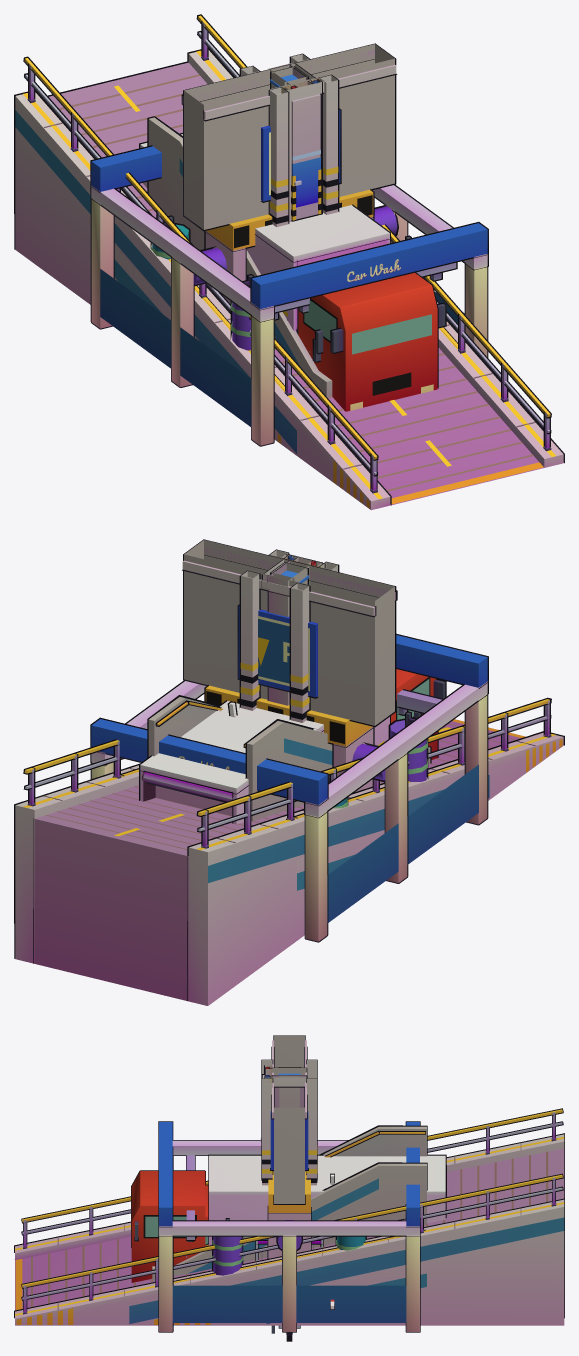
The model's file is fps-kit-parking.glb.
The picture shows the model from 3 angles, top to bottom: view 1: azimuth 30°, elevation 25°; view 2: azimuth 150°, elevation 25°; view 3: azimuth 270°, elevation 25°; orthographic projection. The views are drawn at different scales.
Parts seen in each view (by area): view 1: KIT_PARKING_Ramp, KIT_PARKING_Landmark_CarWash, KIT_PARKING_GateFrame, KIT_PARKING_DeliveryTruck, KIT_PARKING_Stair, KIT_PARKING_Up_B1_Pier, KIT_PARKING_Corner_NE, KIT_PARKING_Corner_NW, KIT_PARKING_RampHalf, KIT_PARKING_GateSide; view 2: KIT_PARKING_Ramp, KIT_PARKING_Landmark_CarWash, KIT_PARKING_GateFrame, KIT_PARKING_DeliveryTruck, KIT_PARKING_Stair, KIT_PARKING_Corner_SW, KIT_PARKING_Corner_SE, KIT_PARKING_TrailWall, KIT_PARKING_RampHalf; view 3: KIT_PARKING_Ramp, KIT_PARKING_Landmark_CarWash, KIT_PARKING_DeliveryTruck, KIT_PARKING_Stair, KIT_PARKING_GateFrame, KIT_PARKING_RampHalf, KIT_PARKING_Corner_SW, KIT_PARKING_Corner_NW, KIT_PARKING_TrailWall, KIT_PARKING_Col_Full_0.
Part boxes in pixels (box(x1,y1,x2,y2)): KIT_PARKING_Ramp: box(14, 14, 564, 510); KIT_PARKING_Landmark_CarWash: box(90, 145, 488, 446); KIT_PARKING_GateFrame: box(181, 43, 397, 303); KIT_PARKING_DeliveryTruck: box(139, 133, 446, 411); KIT_PARKING_Stair: box(147, 116, 332, 397); KIT_PARKING_Up_B1_Pier: box(291, 93, 321, 221); KIT_PARKING_Corner_NE: box(268, 86, 289, 227); KIT_PARKING_Corner_NW: box(318, 74, 339, 214); KIT_PARKING_RampHalf: box(114, 246, 457, 443); KIT_PARKING_GateSide: box(282, 78, 322, 222); KIT_PARKING_Ramp: box(14, 697, 564, 1005); KIT_PARKING_Landmark_CarWash: box(90, 633, 488, 942); KIT_PARKING_GateFrame: box(182, 539, 397, 791); KIT_PARKING_DeliveryTruck: box(139, 669, 446, 824); KIT_PARKING_Stair: box(147, 695, 431, 821); KIT_PARKING_Corner_SW: box(239, 570, 260, 710); KIT_PARKING_Corner_SE: box(289, 582, 310, 722); KIT_PARKING_TrailWall: box(261, 558, 309, 705); KIT_PARKING_RampHalf: box(112, 763, 461, 938); KIT_PARKING_Ramp: box(14, 1108, 564, 1325); KIT_PARKING_Landmark_CarWash: box(158, 1121, 420, 1332); KIT_PARKING_DeliveryTruck: box(131, 1154, 446, 1282); KIT_PARKING_Stair: box(152, 1125, 427, 1280); KIT_PARKING_GateFrame: box(267, 1035, 311, 1258); KIT_PARKING_RampHalf: box(152, 1229, 426, 1325); KIT_PARKING_Corner_SW: box(306, 1078, 317, 1185); KIT_PARKING_Corner_NW: box(261, 1078, 273, 1185); KIT_PARKING_TrailWall: box(271, 1067, 307, 1171); KIT_PARKING_Col_Full_0: box(278, 1067, 300, 1107).
Size of the model in its own units: 6.39 by 8.2 by 16.04.
Materials: 1 (1 with a texture image).
